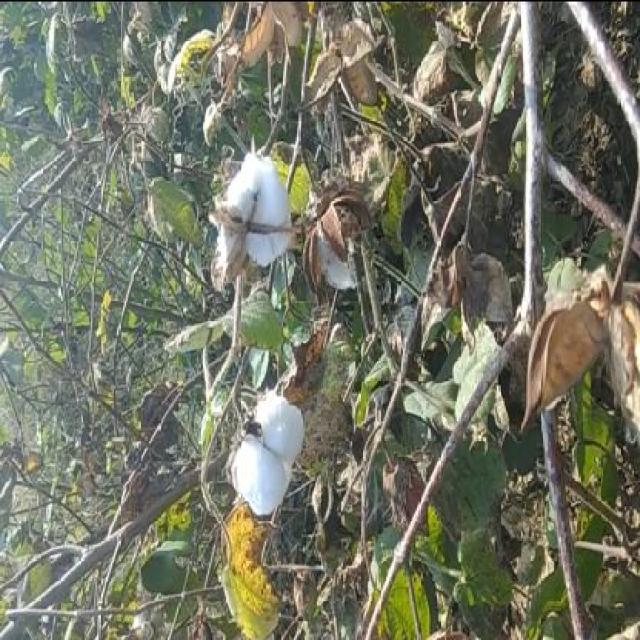cotton_ready: (202, 137, 306, 278), (224, 388, 302, 512)
